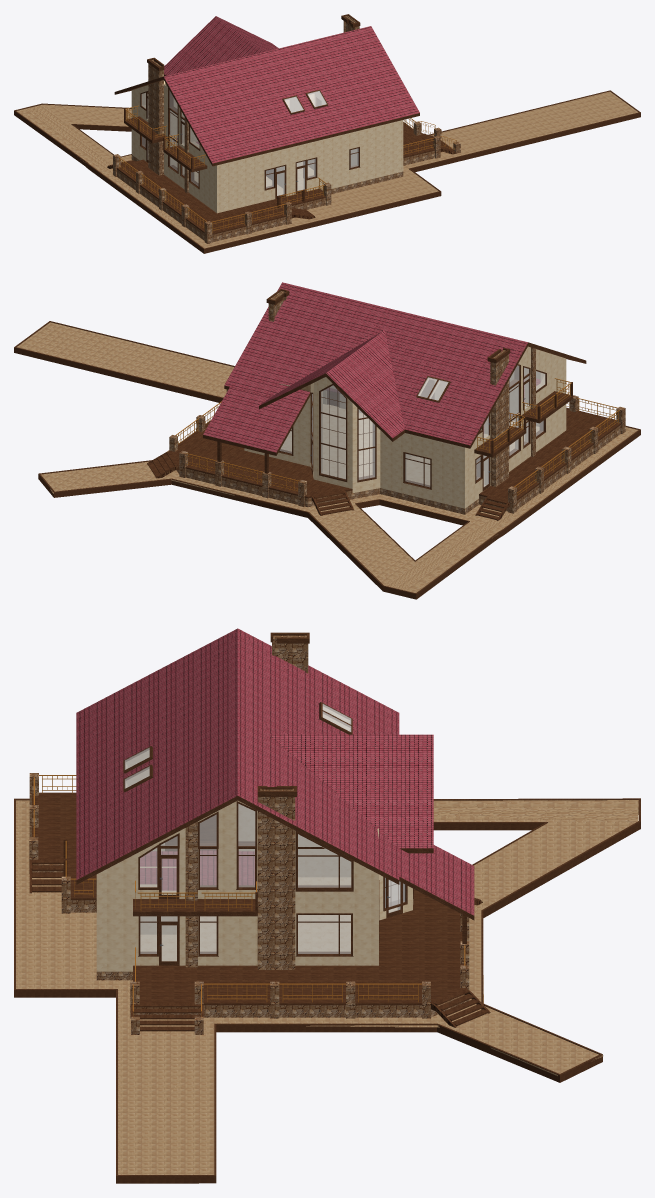
The model's file is House5.obj.
3 renders of one model, top to bottom at view 1: azimuth 30°, elevation 25°; view 2: azimuth 150°, elevation 25°; view 3: azimuth 270°, elevation 25°, orthographic. The views are drawn at different scales.
Parts seen in each view (by area): view 1: 13_____011, 8______011, 7______011, 0______011, 14_____011, Line01, îêíà, 6______011, Line02; view 2: 13_____011, 8______011, 0______011, 7______011, 14_____011, Line01, îêíà, 10_____011, 6______011, Line02, 2______011; view 3: 13_____011, 8______011, 0______011, 7______011, 14_____011, îêíà, Line01, 10_____011, 6______011, 12_____011, Line02.
Boxes of the visible parts, box(x1,y1,x2,y2) form: 13_____011: box(164, 16, 419, 163); 8______011: box(16, 91, 638, 248); 7______011: box(131, 81, 403, 213); 0______011: box(107, 14, 456, 234); 14_____011: box(113, 16, 460, 243); Line01: box(14, 90, 640, 253); îêíà: box(141, 90, 358, 195); 6______011: box(118, 109, 456, 232); Line02: box(71, 124, 131, 157); 13_____011: box(203, 282, 527, 452); 8______011: box(17, 322, 637, 592); 0______011: box(147, 289, 620, 520); 7______011: box(244, 346, 566, 508); 14_____011: box(169, 291, 625, 514); Line01: box(14, 321, 640, 599); îêíà: box(280, 365, 545, 487); 10_____011: box(281, 404, 539, 484); 6______011: box(175, 378, 619, 495); Line02: box(355, 499, 469, 561); 2______011: box(312, 379, 433, 479); 13_____011: box(76, 628, 474, 915); 8______011: box(16, 800, 638, 1174); 0______011: box(29, 632, 490, 1031); 7______011: box(96, 706, 413, 971); 14_____011: box(29, 635, 469, 1034); îêíà: box(125, 704, 404, 961); Line01: box(14, 798, 640, 1183); 10_____011: box(140, 877, 397, 960); 6______011: box(33, 775, 465, 1017); 12_____011: box(140, 850, 254, 890); Line02: box(433, 822, 548, 865).
Size of the model in its own units: 4595 by 1136 by 3226.
Materials: 9 (5 with a texture image).
